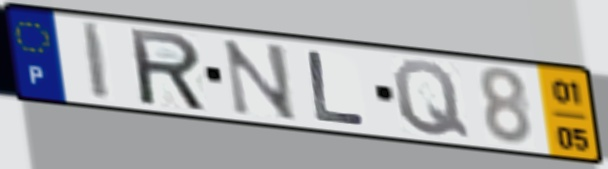8: (474, 64, 535, 150)
I: (78, 20, 114, 105)
L: (303, 47, 370, 128)
N: (218, 37, 301, 124)
Q: (389, 57, 474, 141)
R: (124, 25, 210, 114)
